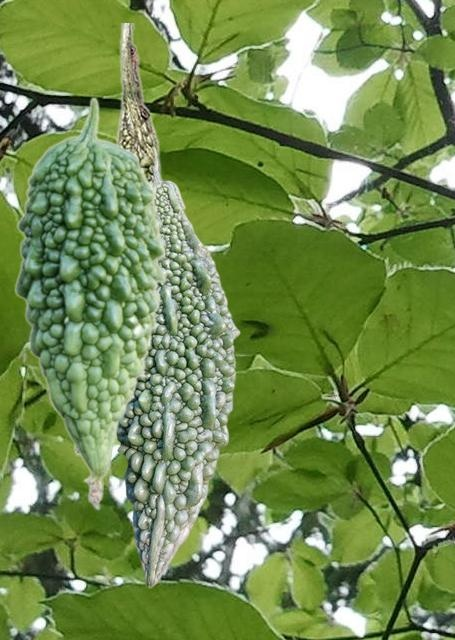ampalaya: (13, 96, 165, 510), (115, 141, 239, 587), (73, 23, 165, 456)
